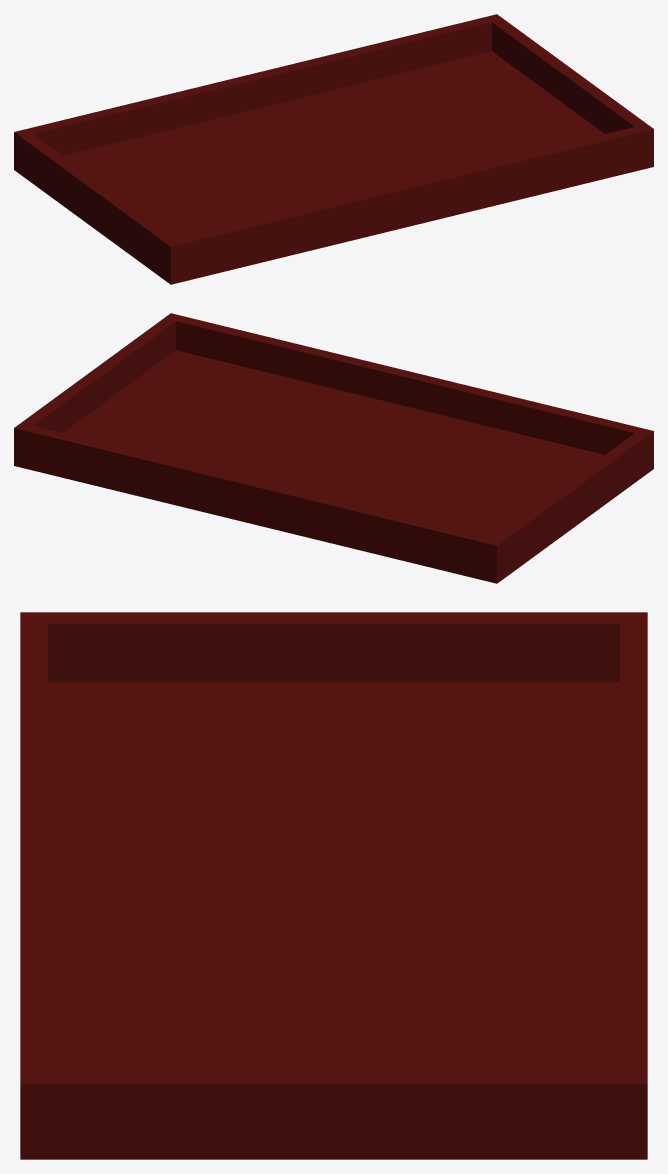
The model's file is panneau.glb.
3 renders of one model, top to bottom at view 1: azimuth 30°, elevation 25°; view 2: azimuth 150°, elevation 25°; view 3: azimuth 270°, elevation 25°, orthographic. The views are drawn at different scales.
Parts seen in each view (by area): view 1: Cube.002; view 2: Cube.002; view 3: Cube.002.
Part boxes in pixels (x1,y1,x2,y2): Cube.002: [14, 14, 653, 284]; Cube.002: [14, 313, 653, 583]; Cube.002: [20, 612, 647, 1159].
Bounding box in the file's own units: 2 × 0.15 × 1.12.
